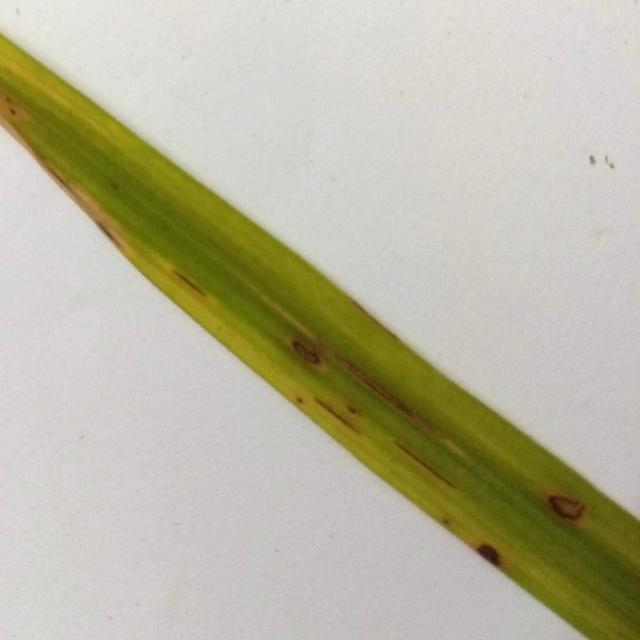Leaf_Blast: (235, 279, 360, 443), (425, 471, 526, 603), (496, 458, 640, 531)
